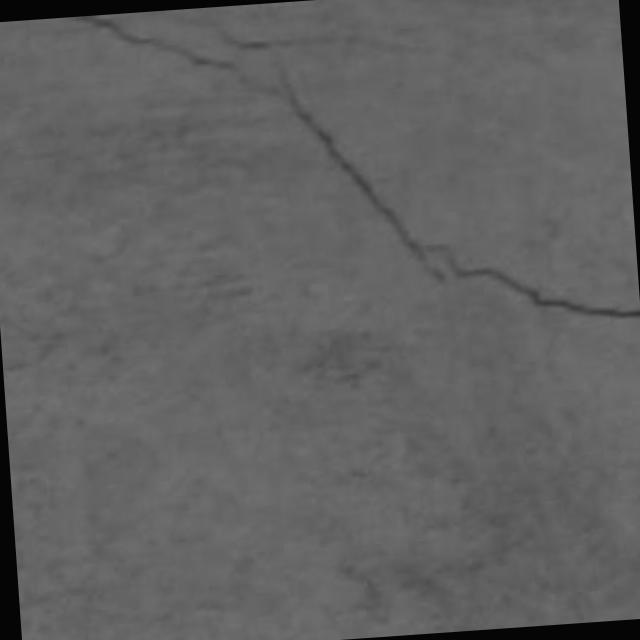crack: (70, 15, 639, 319), (274, 59, 639, 319), (274, 59, 445, 281), (70, 15, 274, 95), (72, 15, 236, 72)
